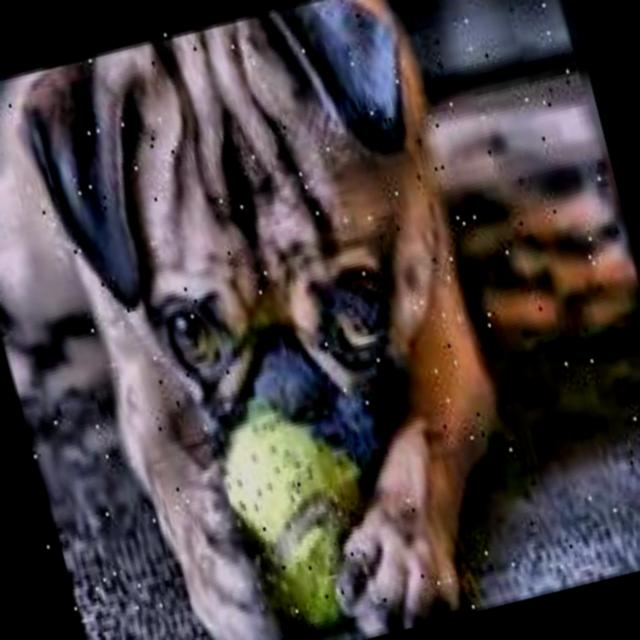tennis-ball: (208, 397, 383, 640)
